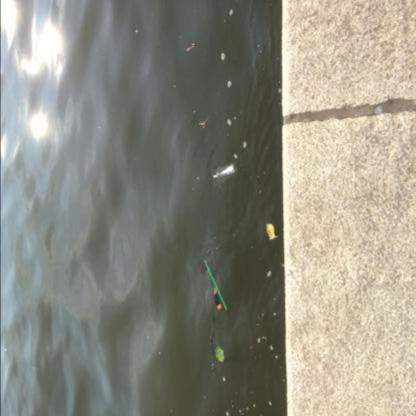Cup: (211, 163, 236, 185)
Other plastic: (213, 288, 221, 310)
Straw: (204, 259, 228, 310)
